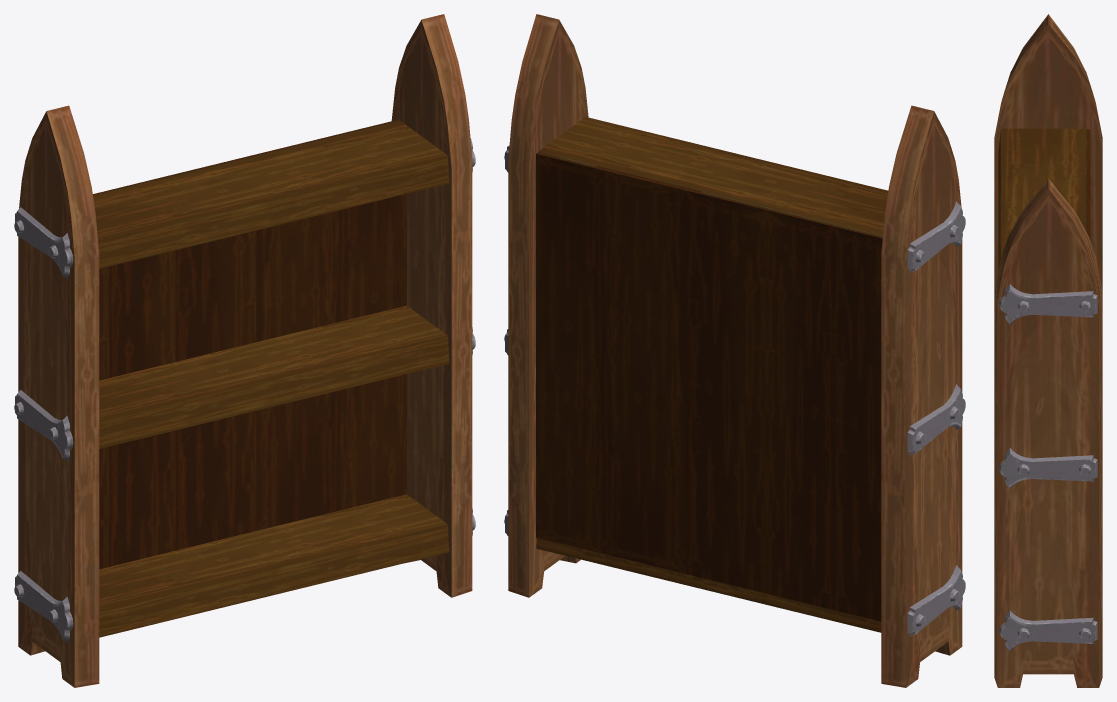
The model's file is quaternius-fantasy-props-shelf-arch.glb.
The picture shows the model from 3 angles, left to right: view 1: azimuth 30°, elevation 25°; view 2: azimuth 150°, elevation 25°; view 3: azimuth 270°, elevation 25°; orthographic projection. The views are drawn at different scales.
Visible parts, largest first — view 1: Shelf_Arch; view 2: Shelf_Arch; view 3: Shelf_Arch.
Part boxes in pixels (box(x1,y1,x2,y2)): Shelf_Arch: box(14, 14, 475, 687); Shelf_Arch: box(504, 14, 965, 687); Shelf_Arch: box(994, 14, 1102, 687).
Size of the model in its own units: 1.29 by 1.65 by 0.3235.
Materials: 2 (2 with a texture image).
